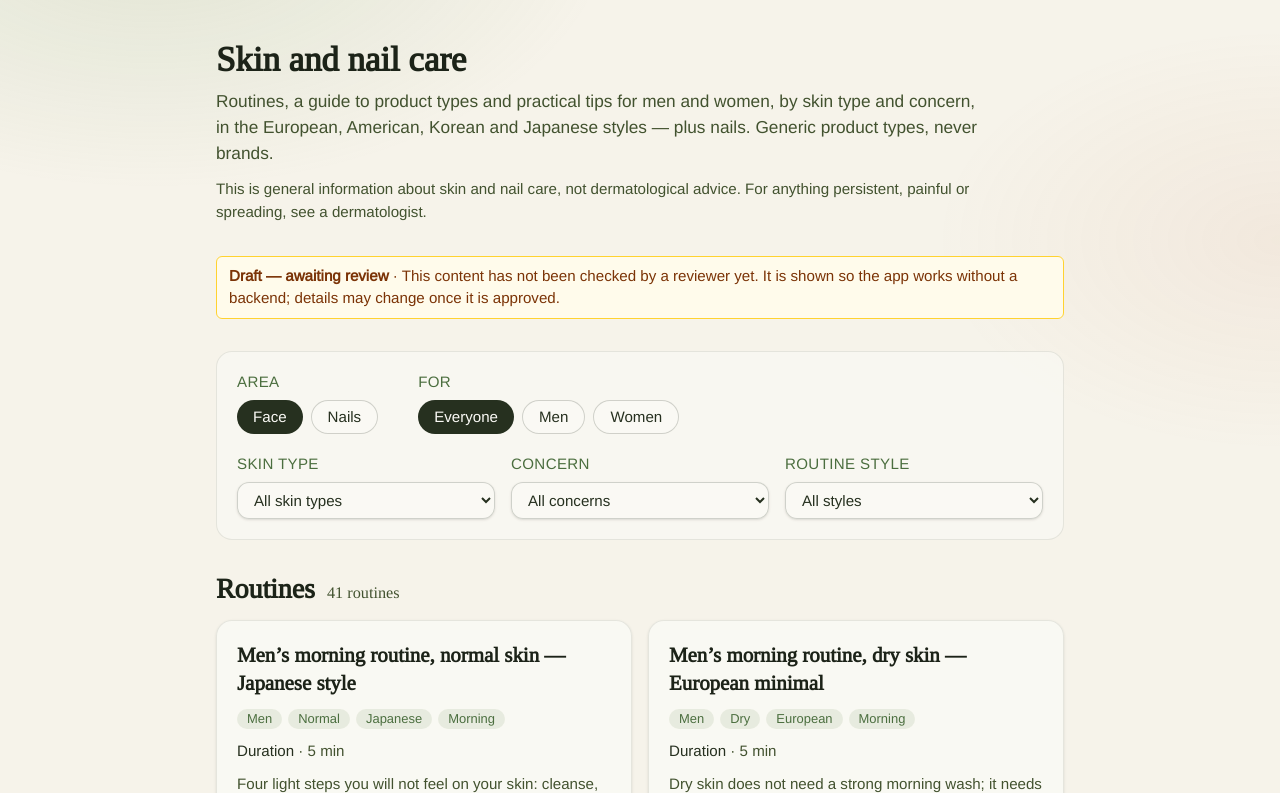
Test: <SkincarePage> with the bundled source › the Nails switch hides the skin-type filter, relabels the style control, writes ?area=nails and shows nail content
Expected: the text "41 routines" is shown, [327, 582, 400, 602]
Click the button "Nails" at (344, 417), box [311, 400, 378, 434]
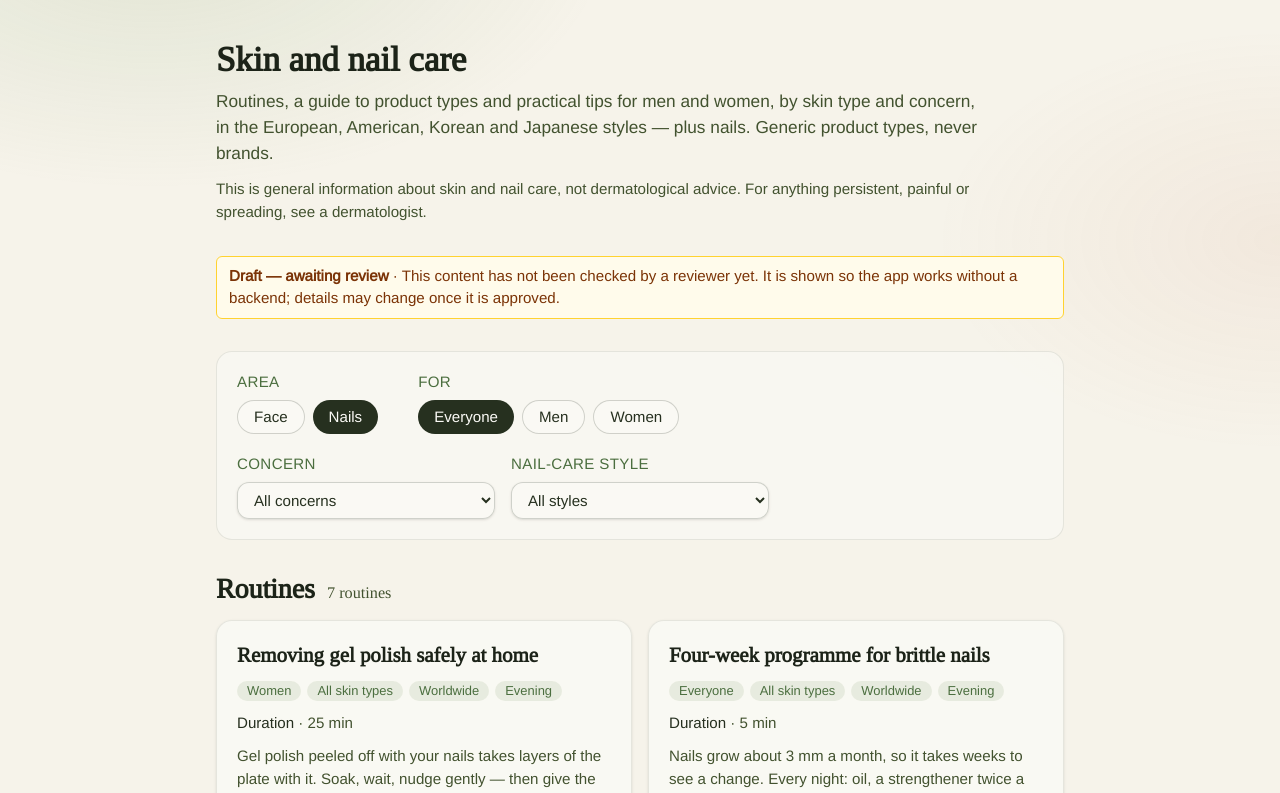
Expected: the dropdown labelled "Nail-care style" is shown, [511, 482, 769, 519]
Now the label "Routine style" is gone
// Back to face clears the URL and restores the skin-type select.
Click the button "Face" at (271, 417), box [237, 400, 305, 434]
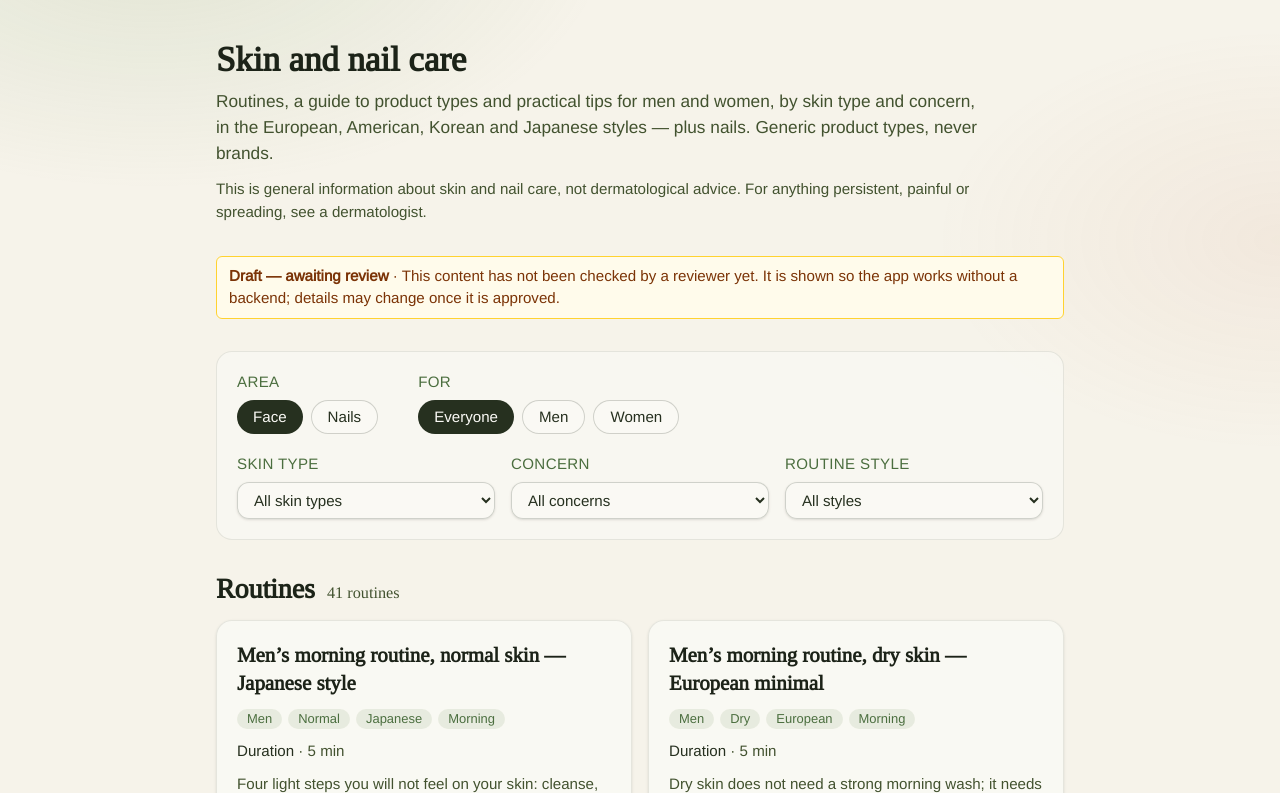
Now the dropdown labelled "Skin type" is shown, box [237, 482, 495, 519]
